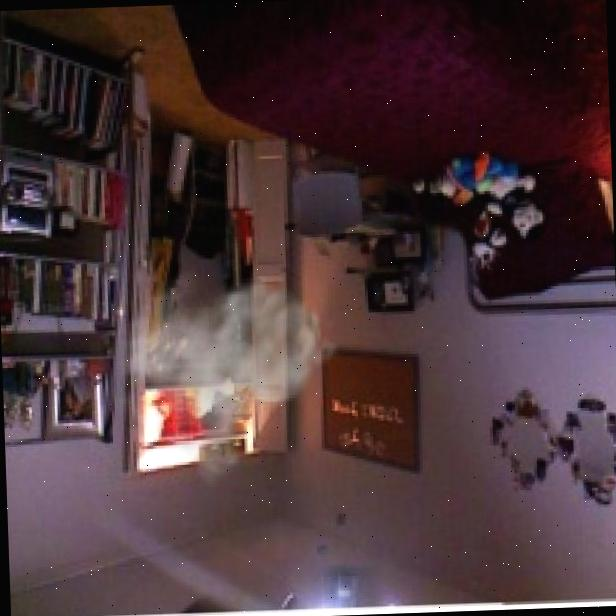smoke: (106, 253, 345, 496)
